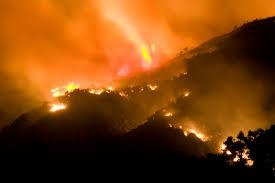fire: (218, 137, 253, 165)
